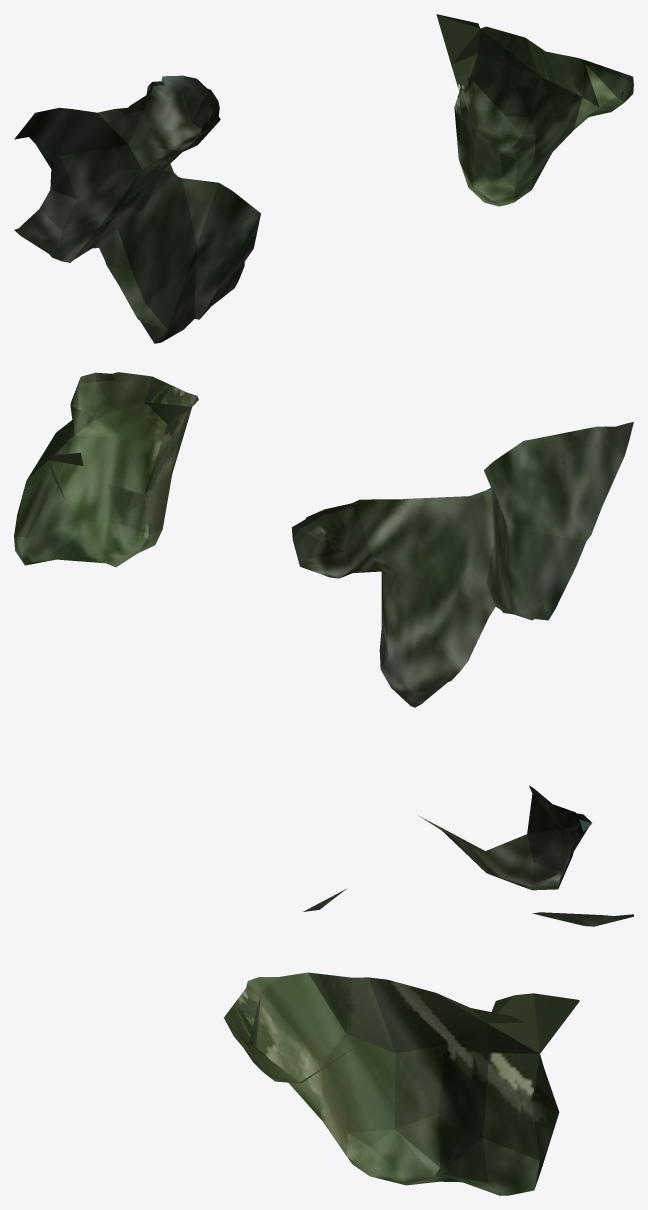
The picture shows the model from 3 angles, top to bottom: view 1: azimuth 30°, elevation 25°; view 2: azimuth 150°, elevation 25°; view 3: azimuth 270°, elevation 25°; orthographic projection. The views are drawn at different scales.
Bounding box in the file's own units: 2.52 × 0.7105 × 2.07.
Materials: 1 (1 with a texture image).
